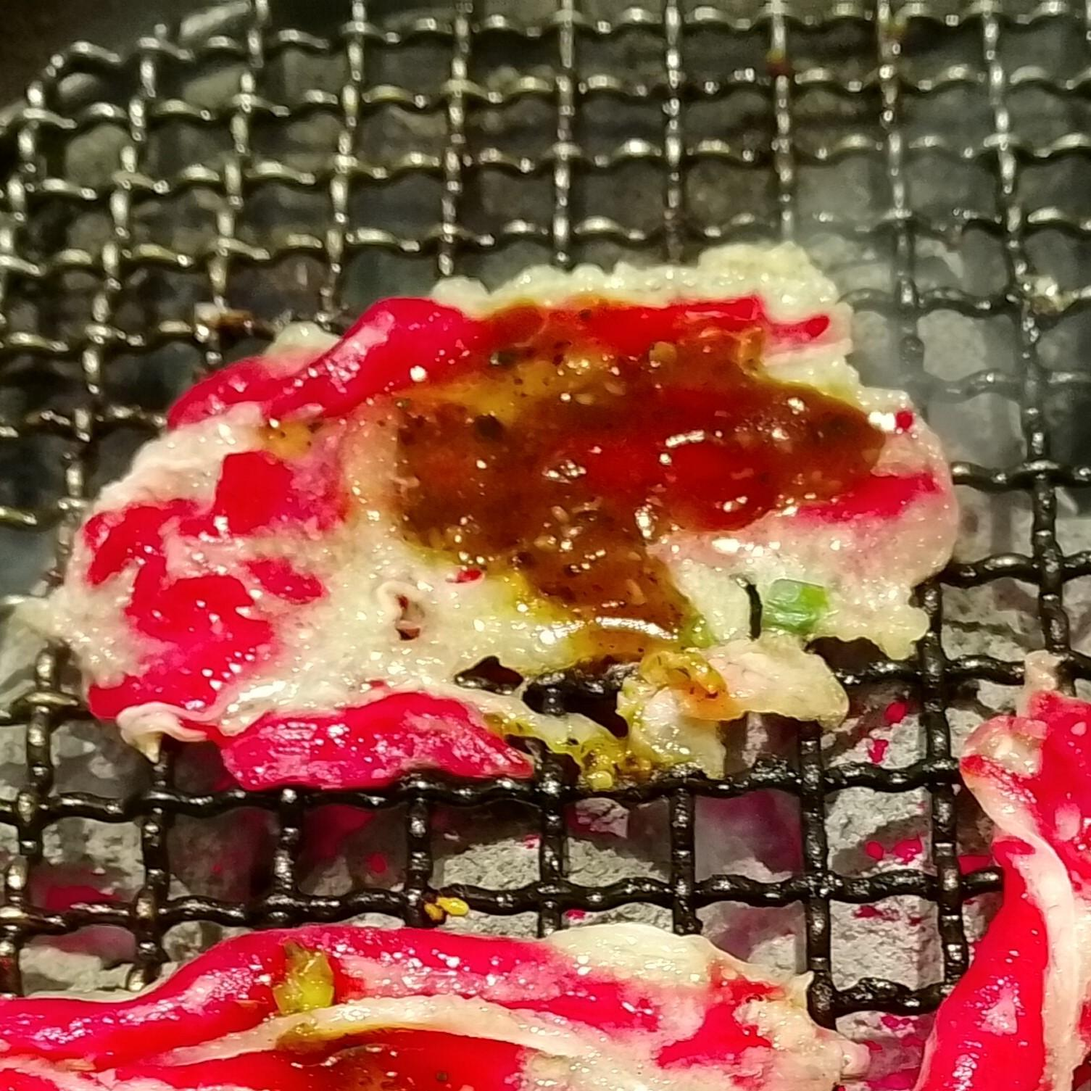Undercooked: (28, 245, 963, 799), (0, 932, 870, 1090), (906, 684, 1090, 1090)
